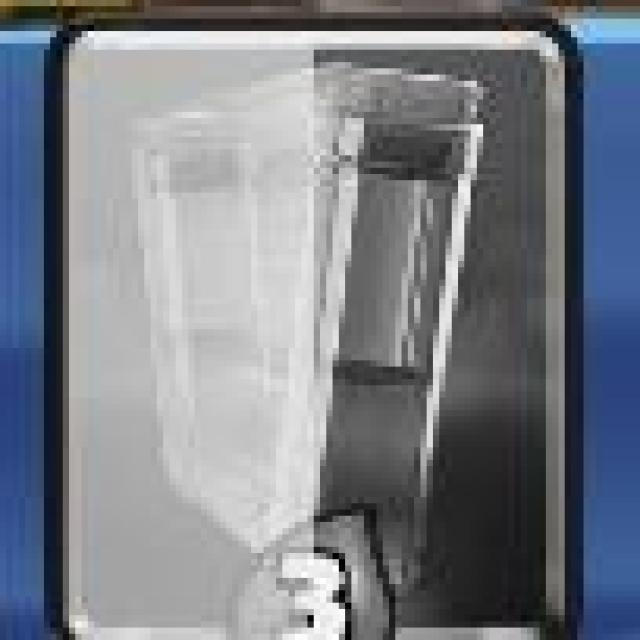Clone_Spell: (44, 20, 585, 640)
